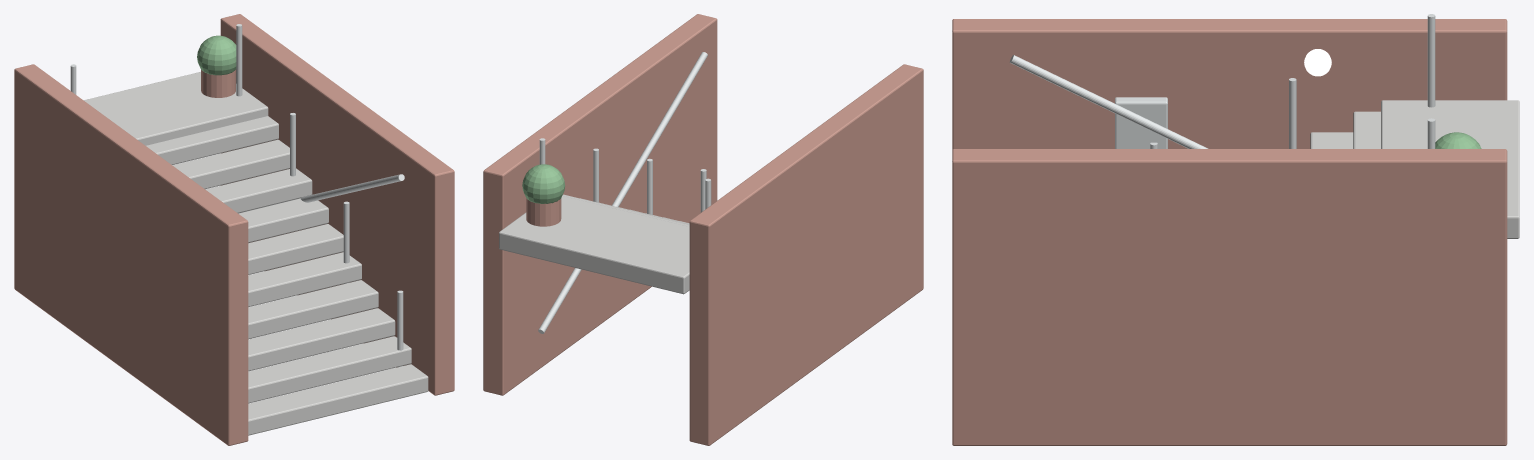
File: webtoon_korean_alley_stairway_module.glb
The picture shows the model from 3 angles, left to right: view 1: azimuth 30°, elevation 25°; view 2: azimuth 150°, elevation 25°; view 3: azimuth 270°, elevation 25°; orthographic projection. The views are drawn at different scales.
Parts seen in each view (by area): view 1: AlleyPlanterBush; view 2: AlleyPlanterBush; view 3: AlleyPlanterBush, AlleySecurityLamp.
Boxes of the visible parts, box(x1,y1,x2,y2) form: AlleyPlanterBush: box(14, 14, 454, 445); AlleyPlanterBush: box(483, 14, 923, 445); AlleyPlanterBush: box(952, 14, 1519, 445); AlleySecurityLamp: box(1304, 49, 1331, 76).
Bounding box in the file's own units: 2.68 × 2.69 × 4.5.
Materials: 2 (2 with a texture image).
